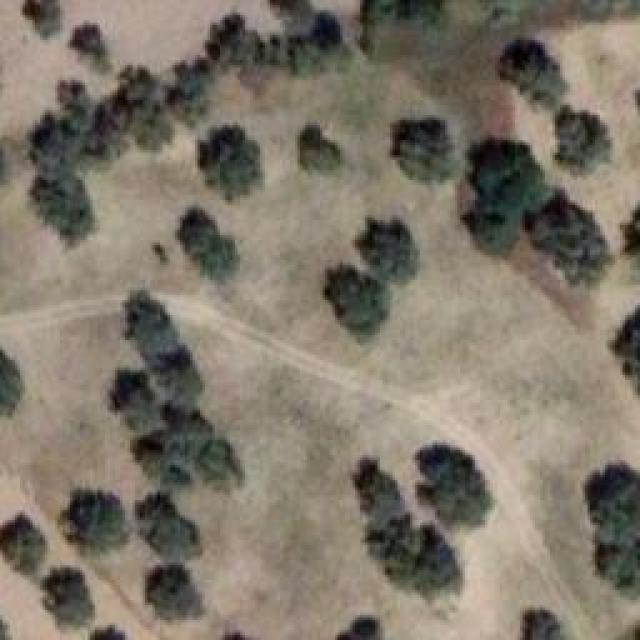Tree: (352, 458, 460, 596), (463, 138, 551, 253), (523, 188, 613, 287), (585, 463, 640, 595), (420, 445, 491, 527), (113, 65, 174, 150), (198, 125, 263, 200), (323, 263, 388, 337), (30, 175, 96, 245), (498, 40, 568, 105), (178, 208, 239, 281), (138, 493, 204, 559), (355, 217, 419, 282), (145, 342, 206, 407), (65, 490, 128, 552), (125, 294, 180, 364), (30, 113, 89, 177), (555, 105, 610, 170), (393, 122, 454, 180), (113, 370, 164, 435), (205, 13, 265, 66), (43, 568, 97, 626), (145, 563, 198, 619), (168, 58, 211, 125), (0, 513, 46, 575), (197, 440, 245, 490), (612, 308, 640, 393), (85, 103, 125, 161), (300, 125, 343, 172), (70, 28, 108, 72), (0, 350, 24, 415), (23, 0, 62, 37), (333, 613, 382, 640), (523, 613, 561, 640), (623, 198, 640, 258), (58, 80, 89, 110), (268, 0, 313, 17)
